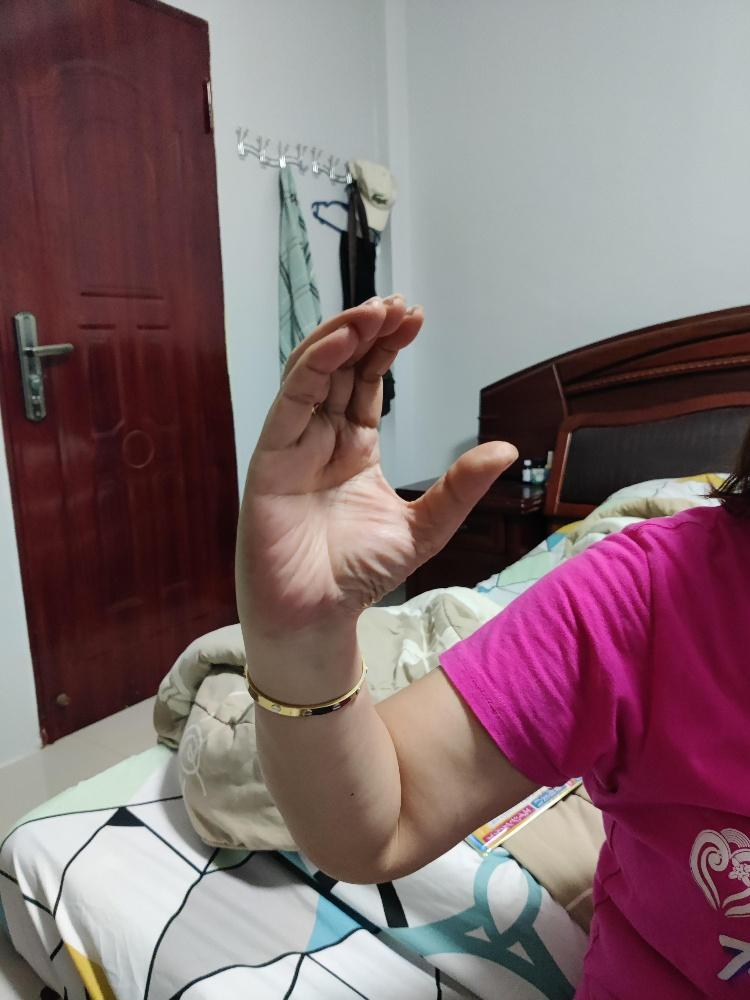c: (231, 291, 520, 634)
